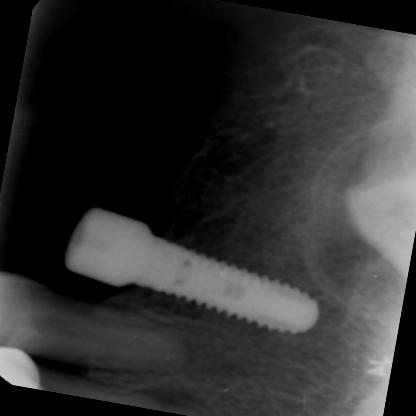Bego: (122, 225, 337, 346)
